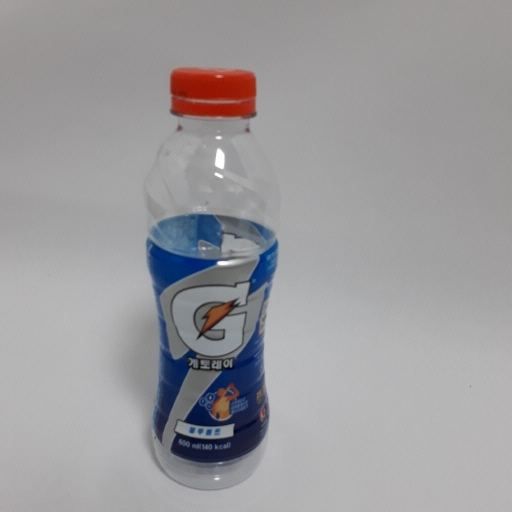Plastic_0: (135, 64, 284, 491)
